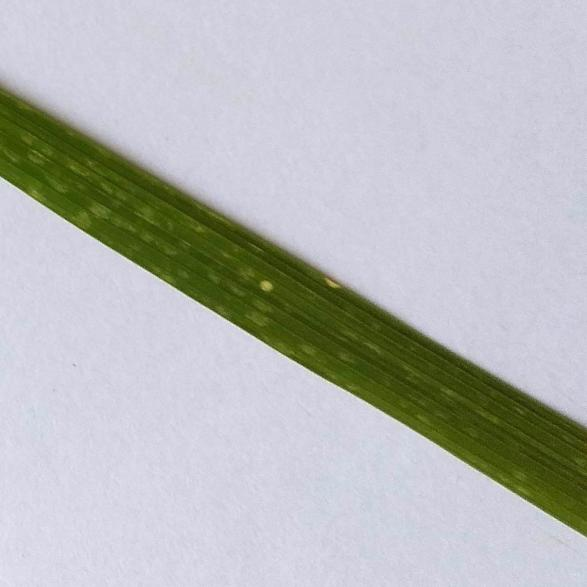Leaf_smut: (310, 266, 352, 294), (252, 264, 280, 302)
